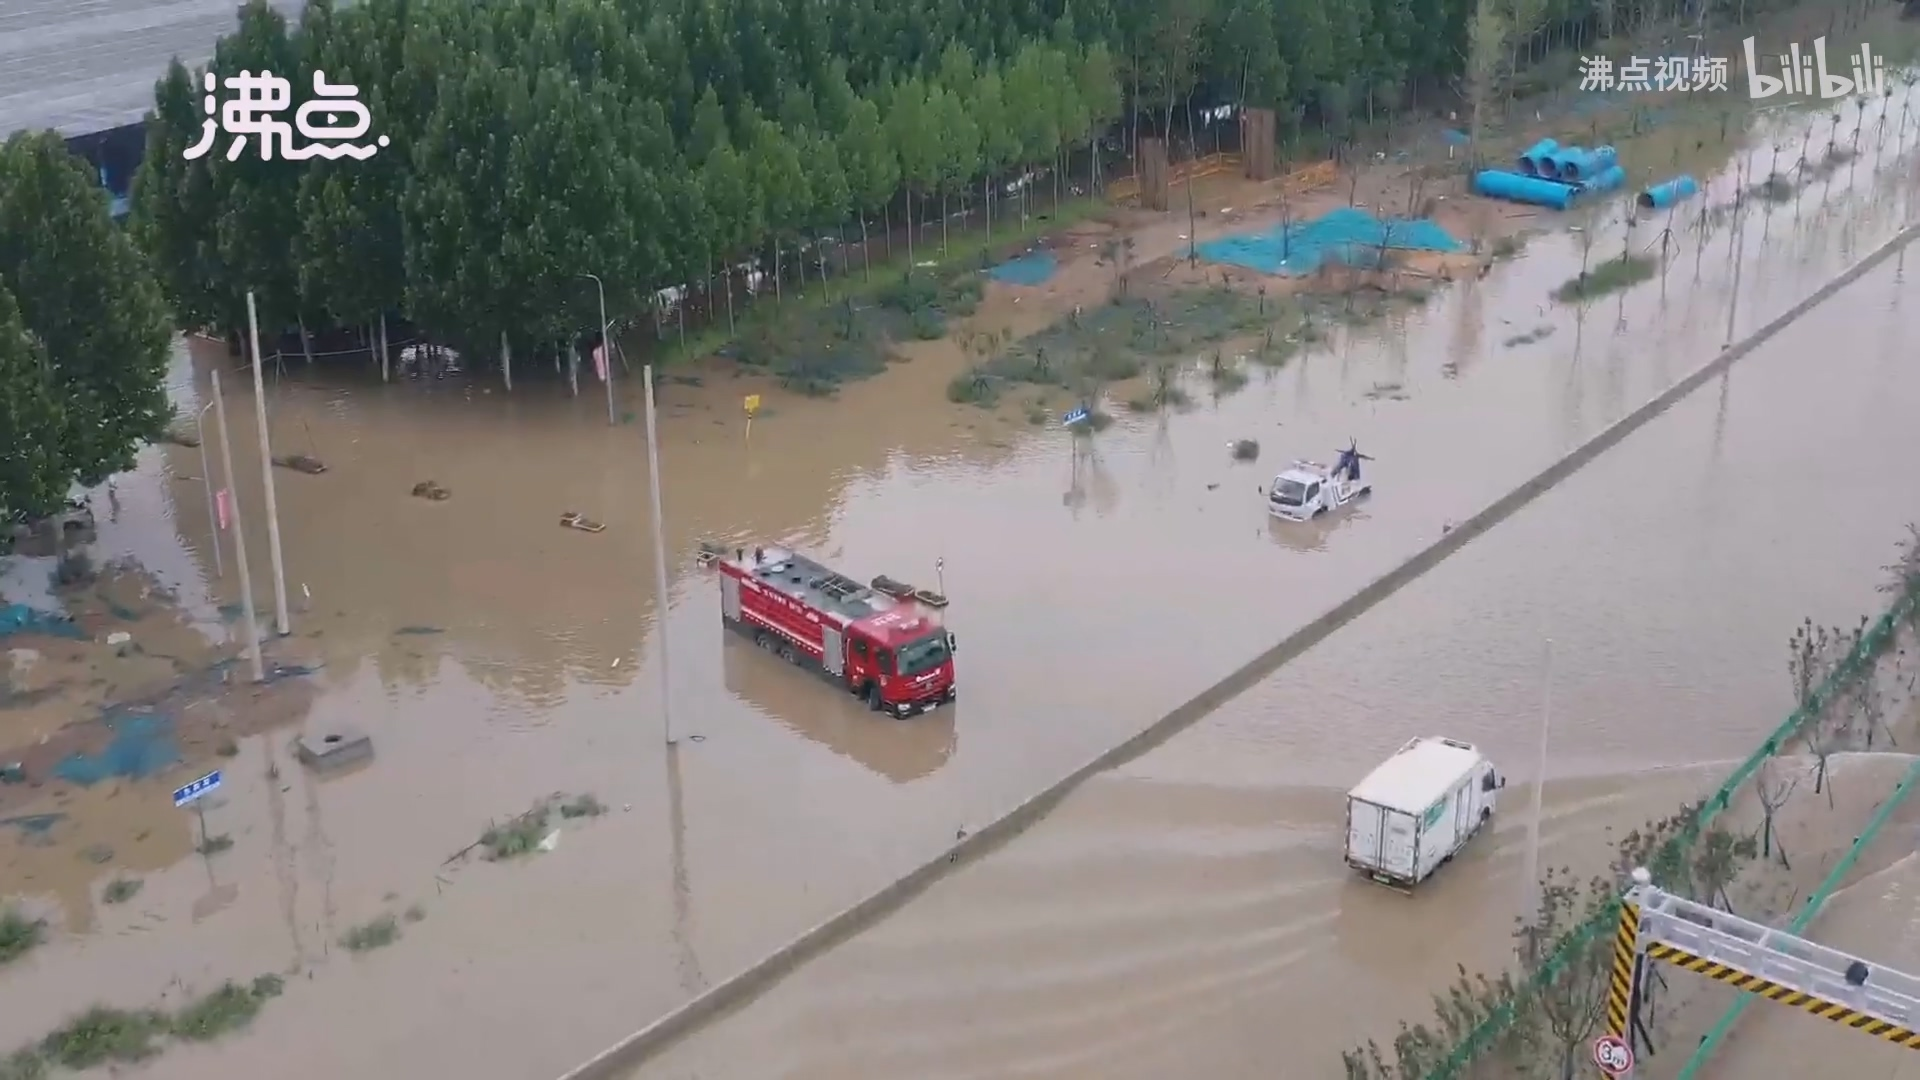puddle: (178, 299, 1560, 1065)
